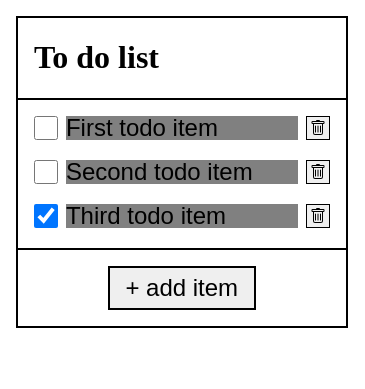
Test: TodoList › it adds a new item in the todo list
Expected: the field with test id "description-item-1" is shown, [66, 116, 298, 140]
Expected: the field with test id "description-item-2" is shown, [66, 160, 298, 184]
What coordinates should you click on to do the following:
click the button "+ add item"
I would click on:
 (182, 288)
Its box is [108, 266, 256, 310].
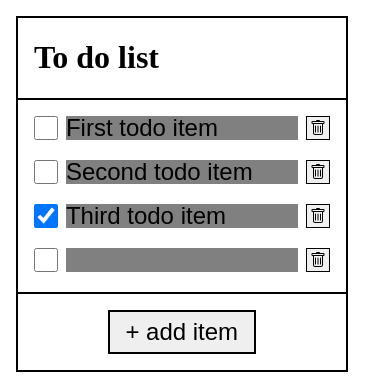
Expected: the field with test id "description-item-1" is shown, [66, 116, 298, 140]
Now the field with test id "description-item-4" is shown, box [66, 248, 298, 272]
